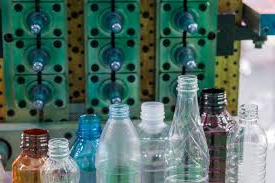plastic water bottle: (165, 73, 210, 183), (197, 86, 240, 183), (226, 102, 275, 183), (94, 102, 142, 183), (135, 100, 172, 183), (67, 112, 106, 183), (37, 136, 80, 183)
